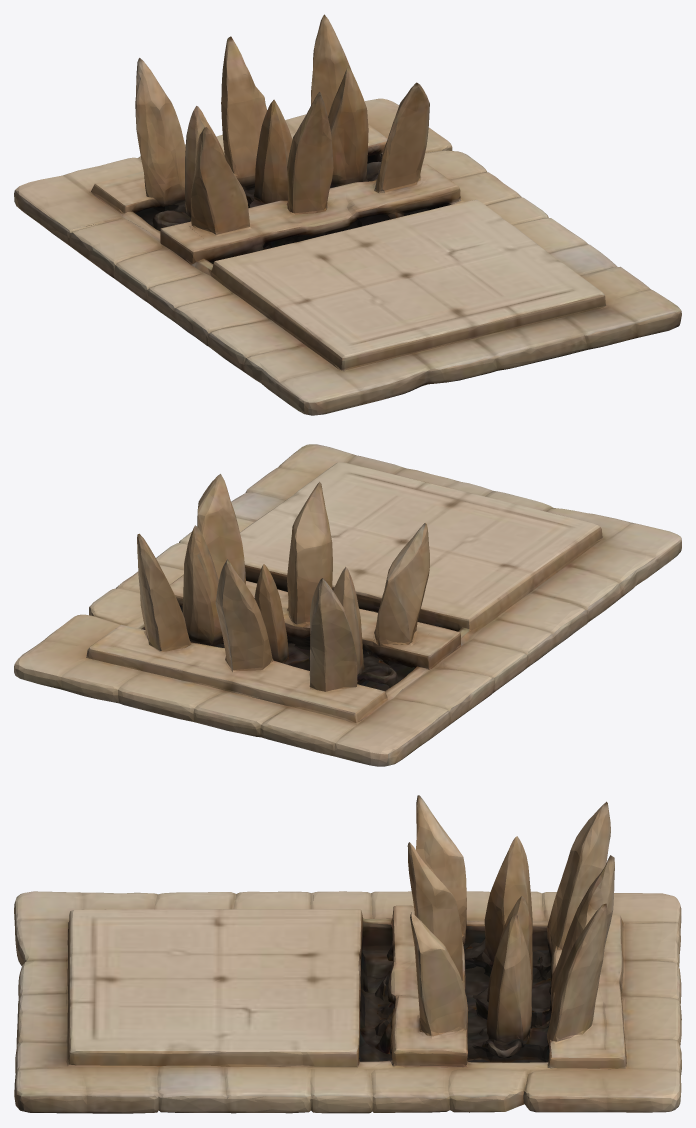
The model's file is piege-pointes.glb.
3 views of the same model, one above another, from view 1: azimuth 30°, elevation 25°; view 2: azimuth 150°, elevation 25°; view 3: azimuth 270°, elevation 25° (orthographic). The views are drawn at different scales.
Visible parts, largest first — view 1: world; view 2: world; view 3: world.
Part boxes in pixels (x1,y1,x2,y2): world: (14, 14, 681, 415); world: (14, 444, 681, 766); world: (14, 795, 681, 1113).
Size of the model in its own units: 0.7262 by 0.2965 by 0.9936.
1 material, 1 textured.
